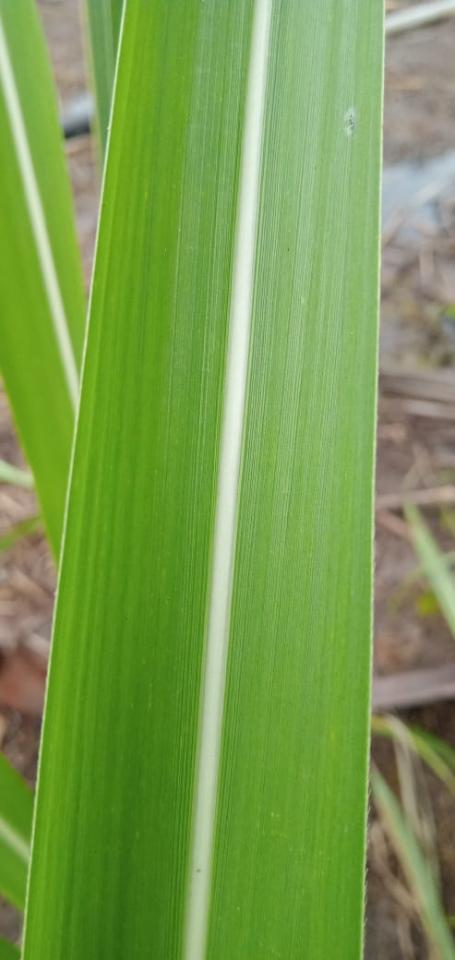Healthy: (21, 0, 385, 959), (0, 0, 89, 570), (84, 0, 127, 168), (0, 748, 37, 915), (0, 934, 25, 959)
